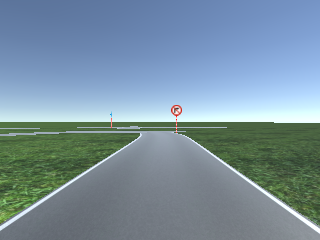0: (1, 189, 320, 239)
NoRight: (170, 104, 183, 117)
